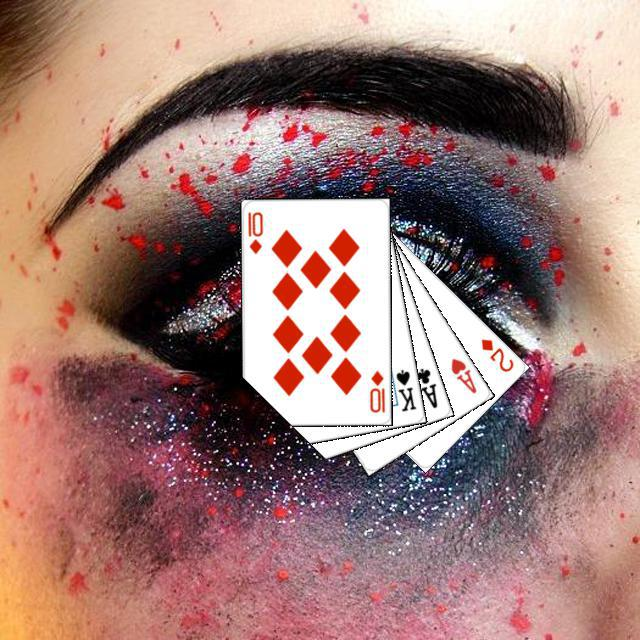10d: (365, 366, 386, 414), (243, 207, 264, 255)
2d: (476, 333, 515, 374)
Ac: (411, 363, 439, 410)
Ah: (446, 353, 478, 395)
Ks: (391, 365, 418, 413)
